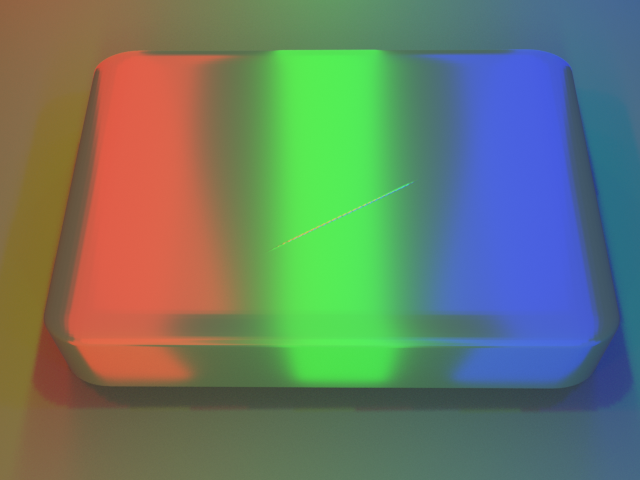scratch: (109, 84, 589, 361)
